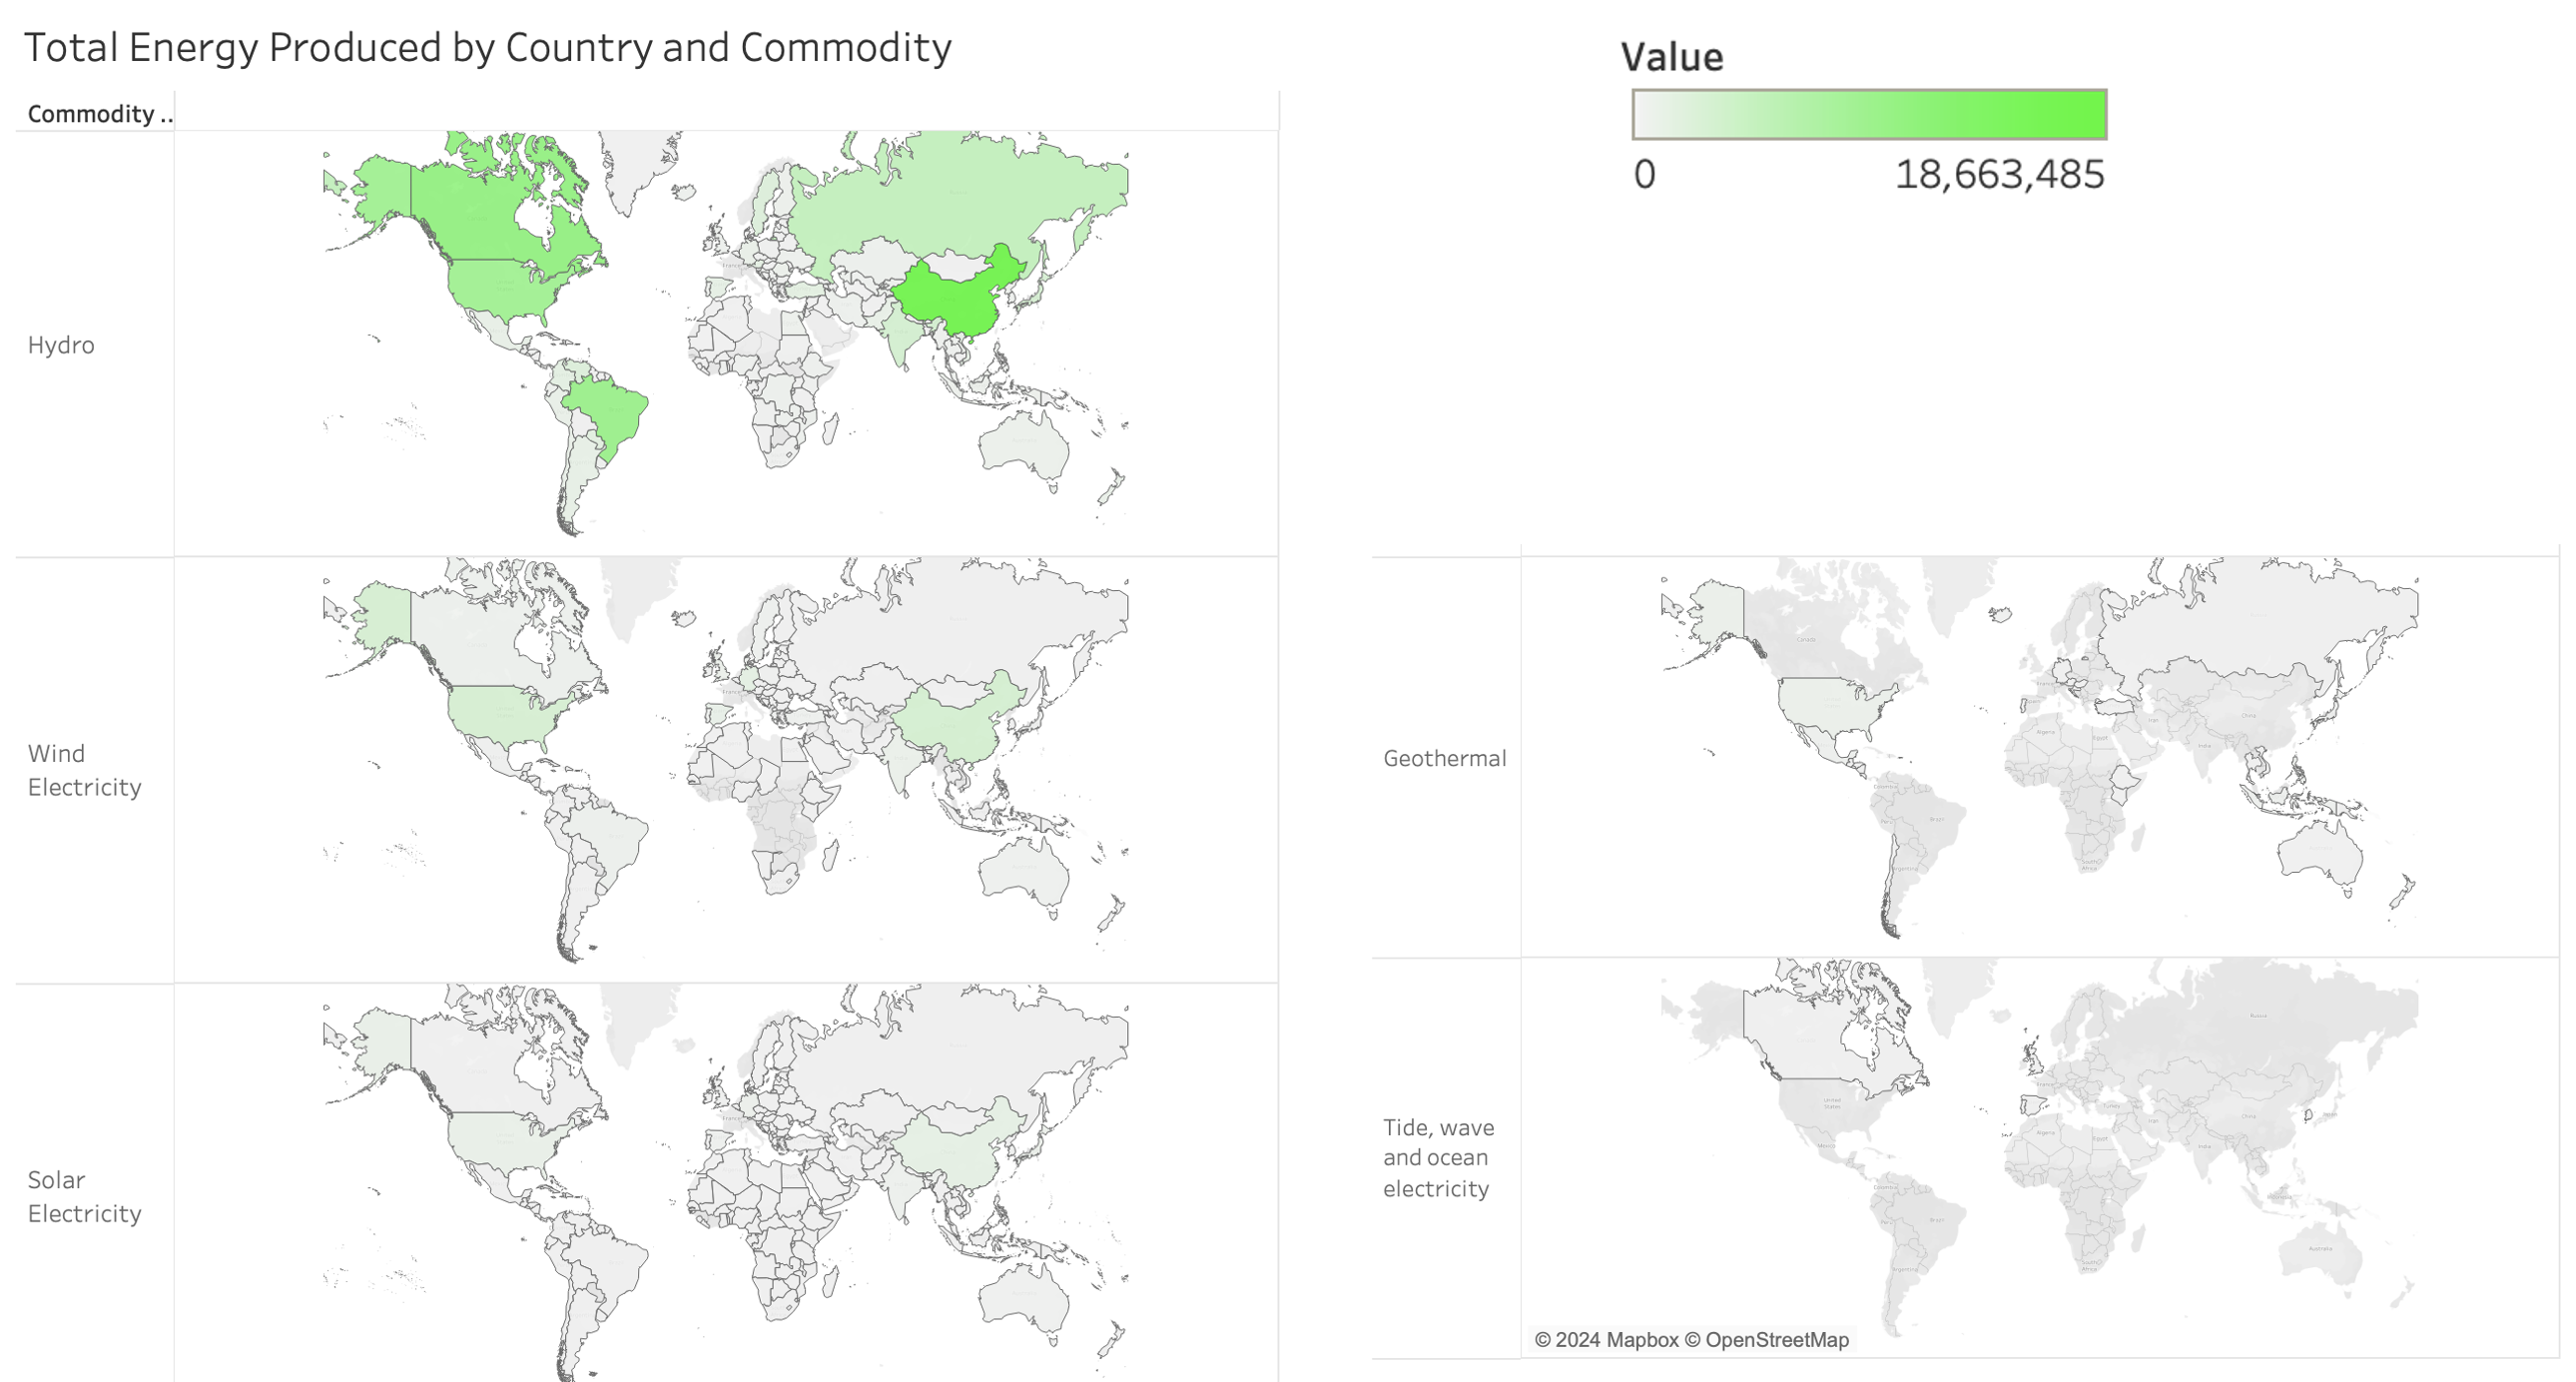

Layout of this report page (visuals, bound fields, positions):
{"tool":"tableau","page":{"name":"4_ODS_7.2.1","canvas":[1000,800],"ordinal":3},"visuals":[{"type":"worksheet","title":"Sheet 5","mark":"Automatic","rows":["value"],"cols":["time_period"],"box":[8,8,824,784]},{"type":"legend","title":"Sheet 5","param":"[federated.1miehs20nfe72e1g3rj4q0lleh6e].[none:commodity_name:nk]","box":[832,8,160,126]}]}

Visuals, with their boxes on the page's 1000x800 design canvas (x1, y1, x2, y2). These are canvas units, not pixel positions in the 2576x1382 screenshot, which may show the page scaled, cropped or inside an application window:
"Sheet 5" worksheet: (x1=8, y1=8, x2=832, y2=792)
"Sheet 5" legend: (x1=832, y1=8, x2=992, y2=134)
